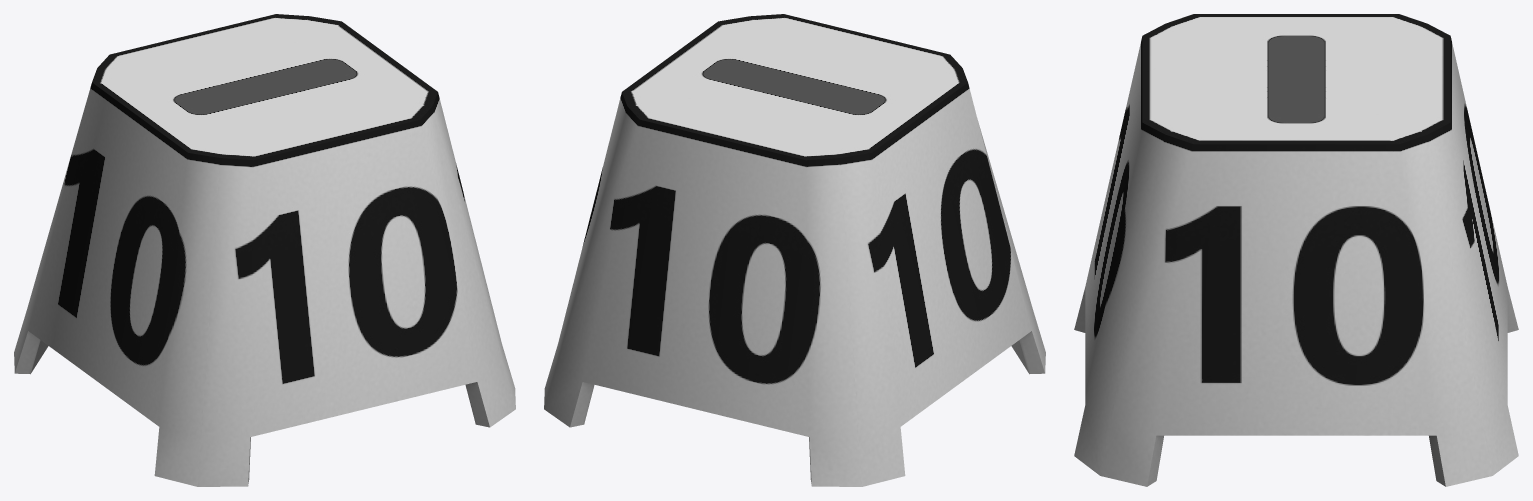
3 renders of one model, left to right at view 1: azimuth 30°, elevation 25°; view 2: azimuth 150°, elevation 25°; view 3: azimuth 270°, elevation 25°, orthographic. The views are drawn at different scales.
Visible parts, largest first — view 1: No_10_Box; view 2: No_10_Box; view 3: No_10_Box.
Boxes of the visible parts, x1,y1,x2,y2 form: No_10_Box: (14,14,515,486); No_10_Box: (544,14,1045,486); No_10_Box: (1074,14,1518,486).
Bounding box in the file's own units: 0.4097 × 0.319 × 0.4097.
1 material, 1 textured.
